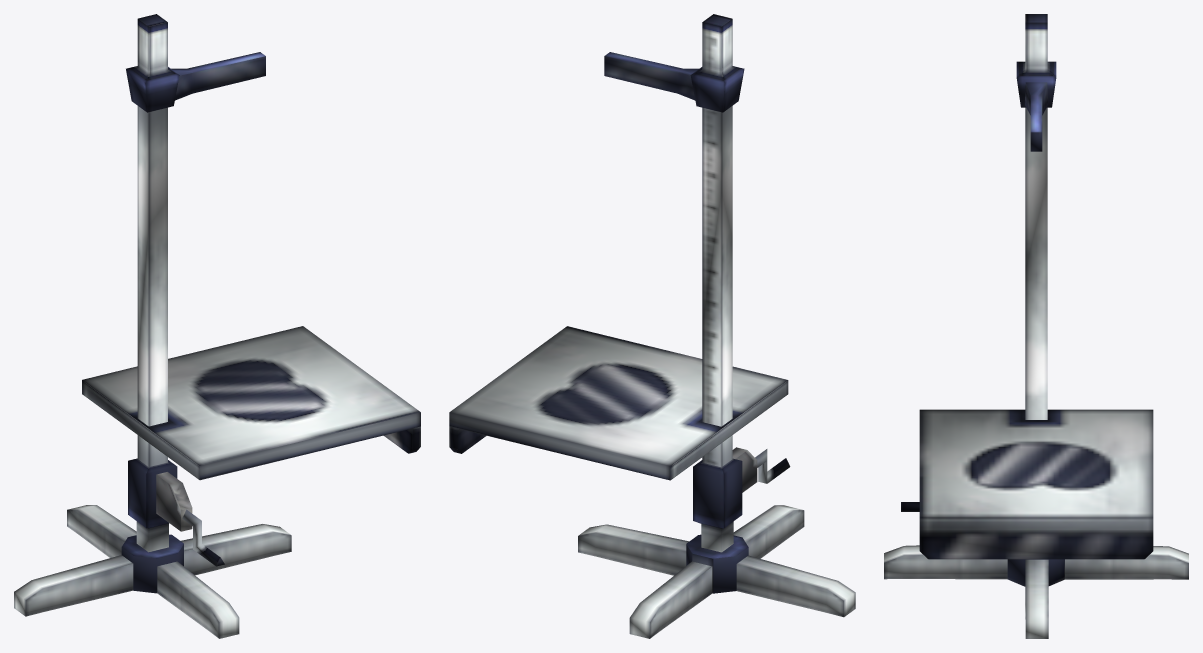
File: a_SCgen27.glb
3 views of the same model, side by side, from view 1: azimuth 30°, elevation 25°; view 2: azimuth 150°, elevation 25°; view 3: azimuth 270°, elevation 25° (orthographic).
Visible parts, largest first — view 1: a_SCgen27; view 2: a_SCgen27; view 3: a_SCgen27.
Boxes of the visible parts, left/top/right/bottom form: a_SCgen27: left=14, top=14, right=420, bottom=638; a_SCgen27: left=449, top=14, right=855, bottom=638; a_SCgen27: left=884, top=14, right=1188, bottom=638.
Bounding box in the file's own units: 1 × 1.57 × 0.782.
1 material, 1 textured.
